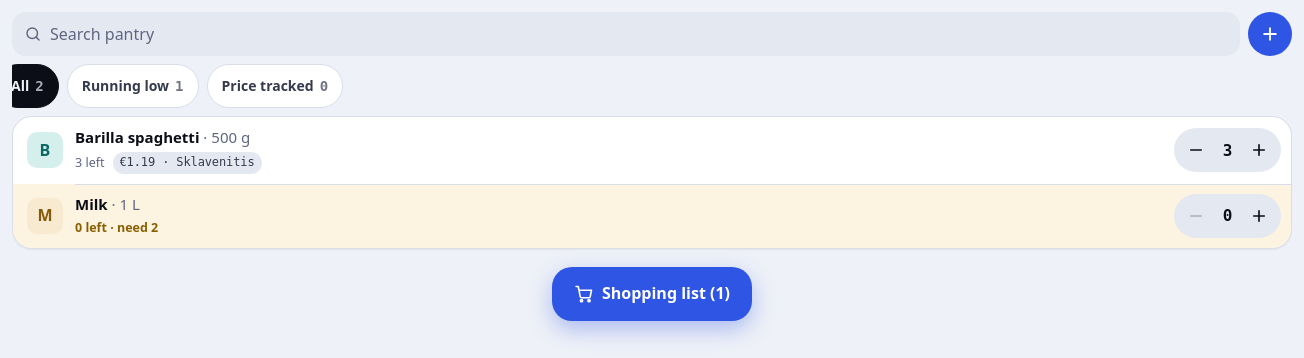
Scenario: search filters by name and by brand, ignoring case
The image size is (1304, 358).
Expected: the list item "Milk" is shown, [13,184,1291,248]
Type "spag" into the search field labelled "Search pantry" at (639, 34), box [50,12,1228,56]
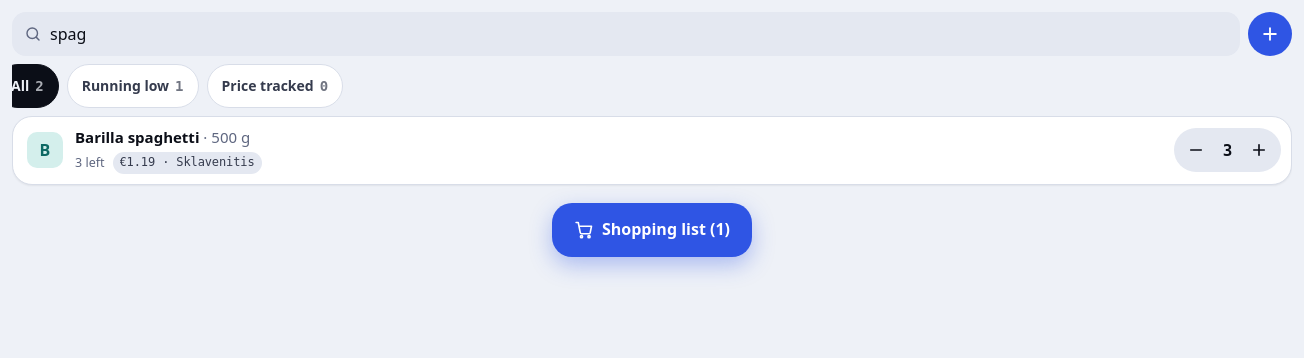
Replace the text in the search field named "Search pantry" with "DELTA" at (639, 34), box [50,12,1228,56]
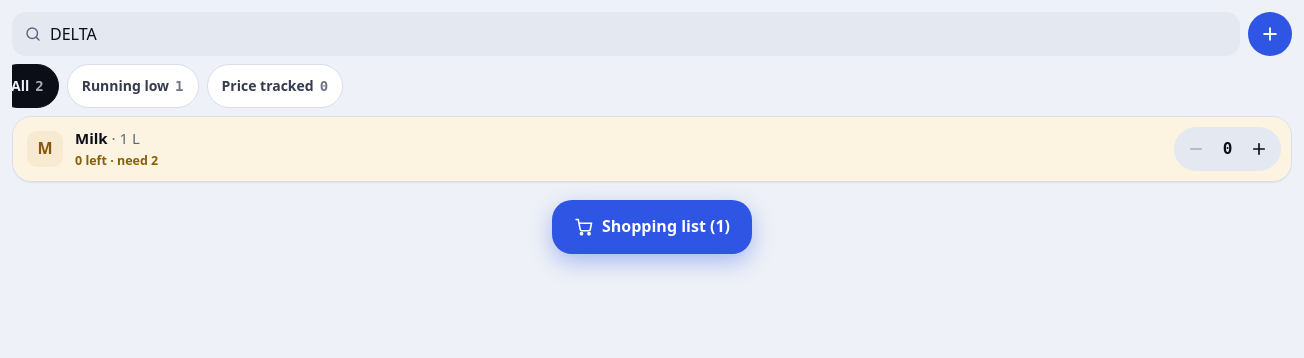
Replace the text in the search field named "Search pantry" with "zzz" at (639, 34), box [50,12,1228,56]
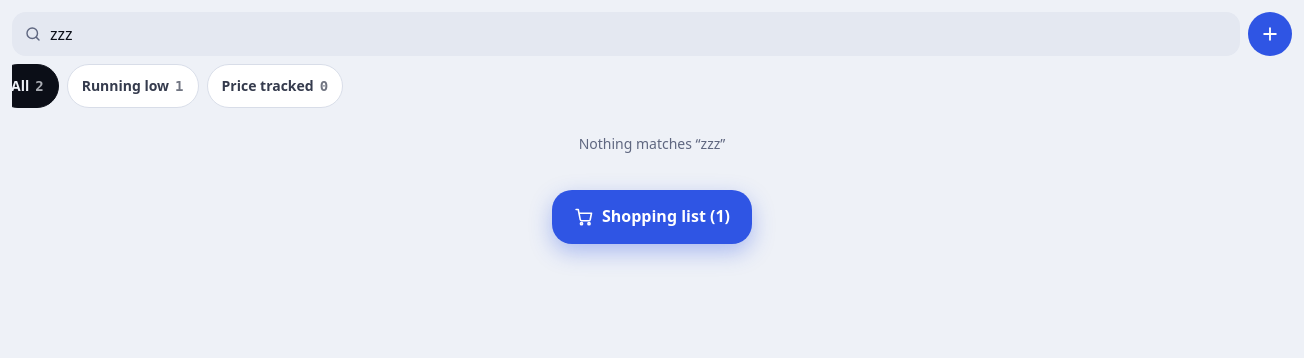
Result: no list items are shown
Result: the text "Nothing matches “zzz”" is shown at [579,134,725,153]
